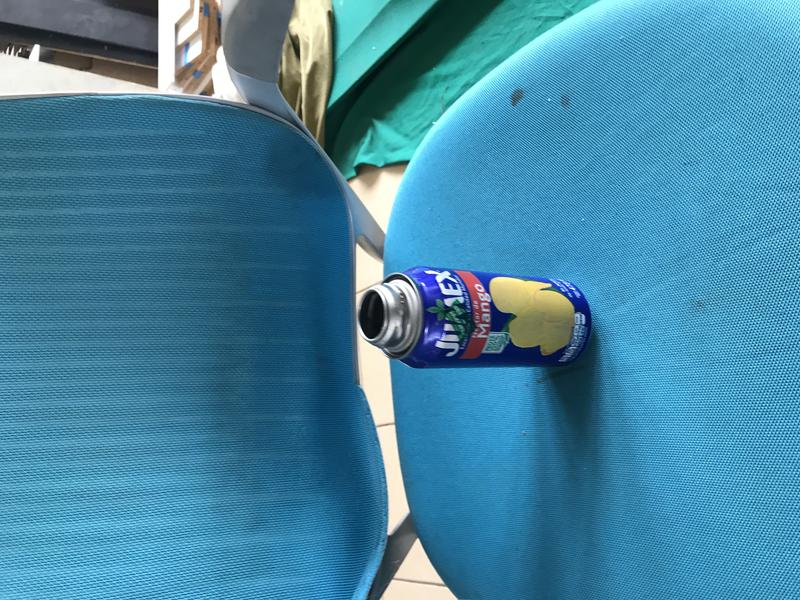jumex_botella: (359, 264, 593, 368)
